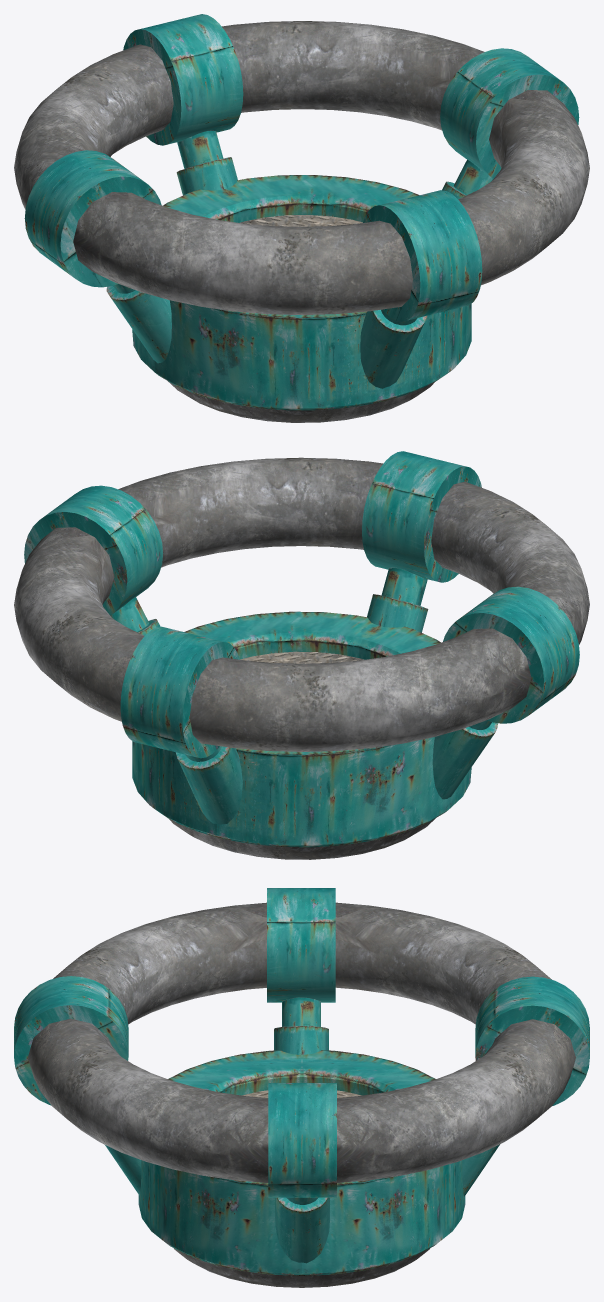
Rendered from Pillar.obj.
3 views of the same model, one above another, from view 1: azimuth 30°, elevation 25°; view 2: azimuth 150°, elevation 25°; view 3: azimuth 270°, elevation 25° (orthographic). The views are drawn at different scales.
Parts seen in each view (by area): view 1: Cylinder.003, Cylinder.002, Cylinder.001_Cylinder.004; view 2: Cylinder.003, Cylinder.002, Cylinder.001_Cylinder.004; view 3: Cylinder.003, Cylinder.002, Cylinder.001_Cylinder.004.
Boxes of the visible parts, box(x1,y1,x2,y2) form: Cylinder.003: box(14, 21, 589, 314); Cylinder.002: box(24, 14, 579, 388); Cylinder.001_Cylinder.004: box(132, 175, 471, 422); Cylinder.003: box(14, 457, 589, 751); Cylinder.002: box(24, 451, 579, 824); Cylinder.001_Cylinder.004: box(132, 611, 471, 859); Cylinder.003: box(28, 902, 575, 1182); Cylinder.002: box(14, 888, 589, 1263); Cylinder.001_Cylinder.004: box(138, 1050, 465, 1287).
Bounding box in the file's own units: 3.52 × 1.63 × 3.52.
1 material, 1 textured.
